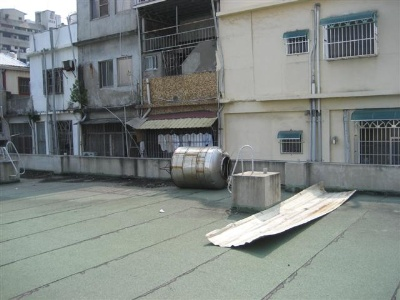water_tower: (170, 146, 232, 190)
